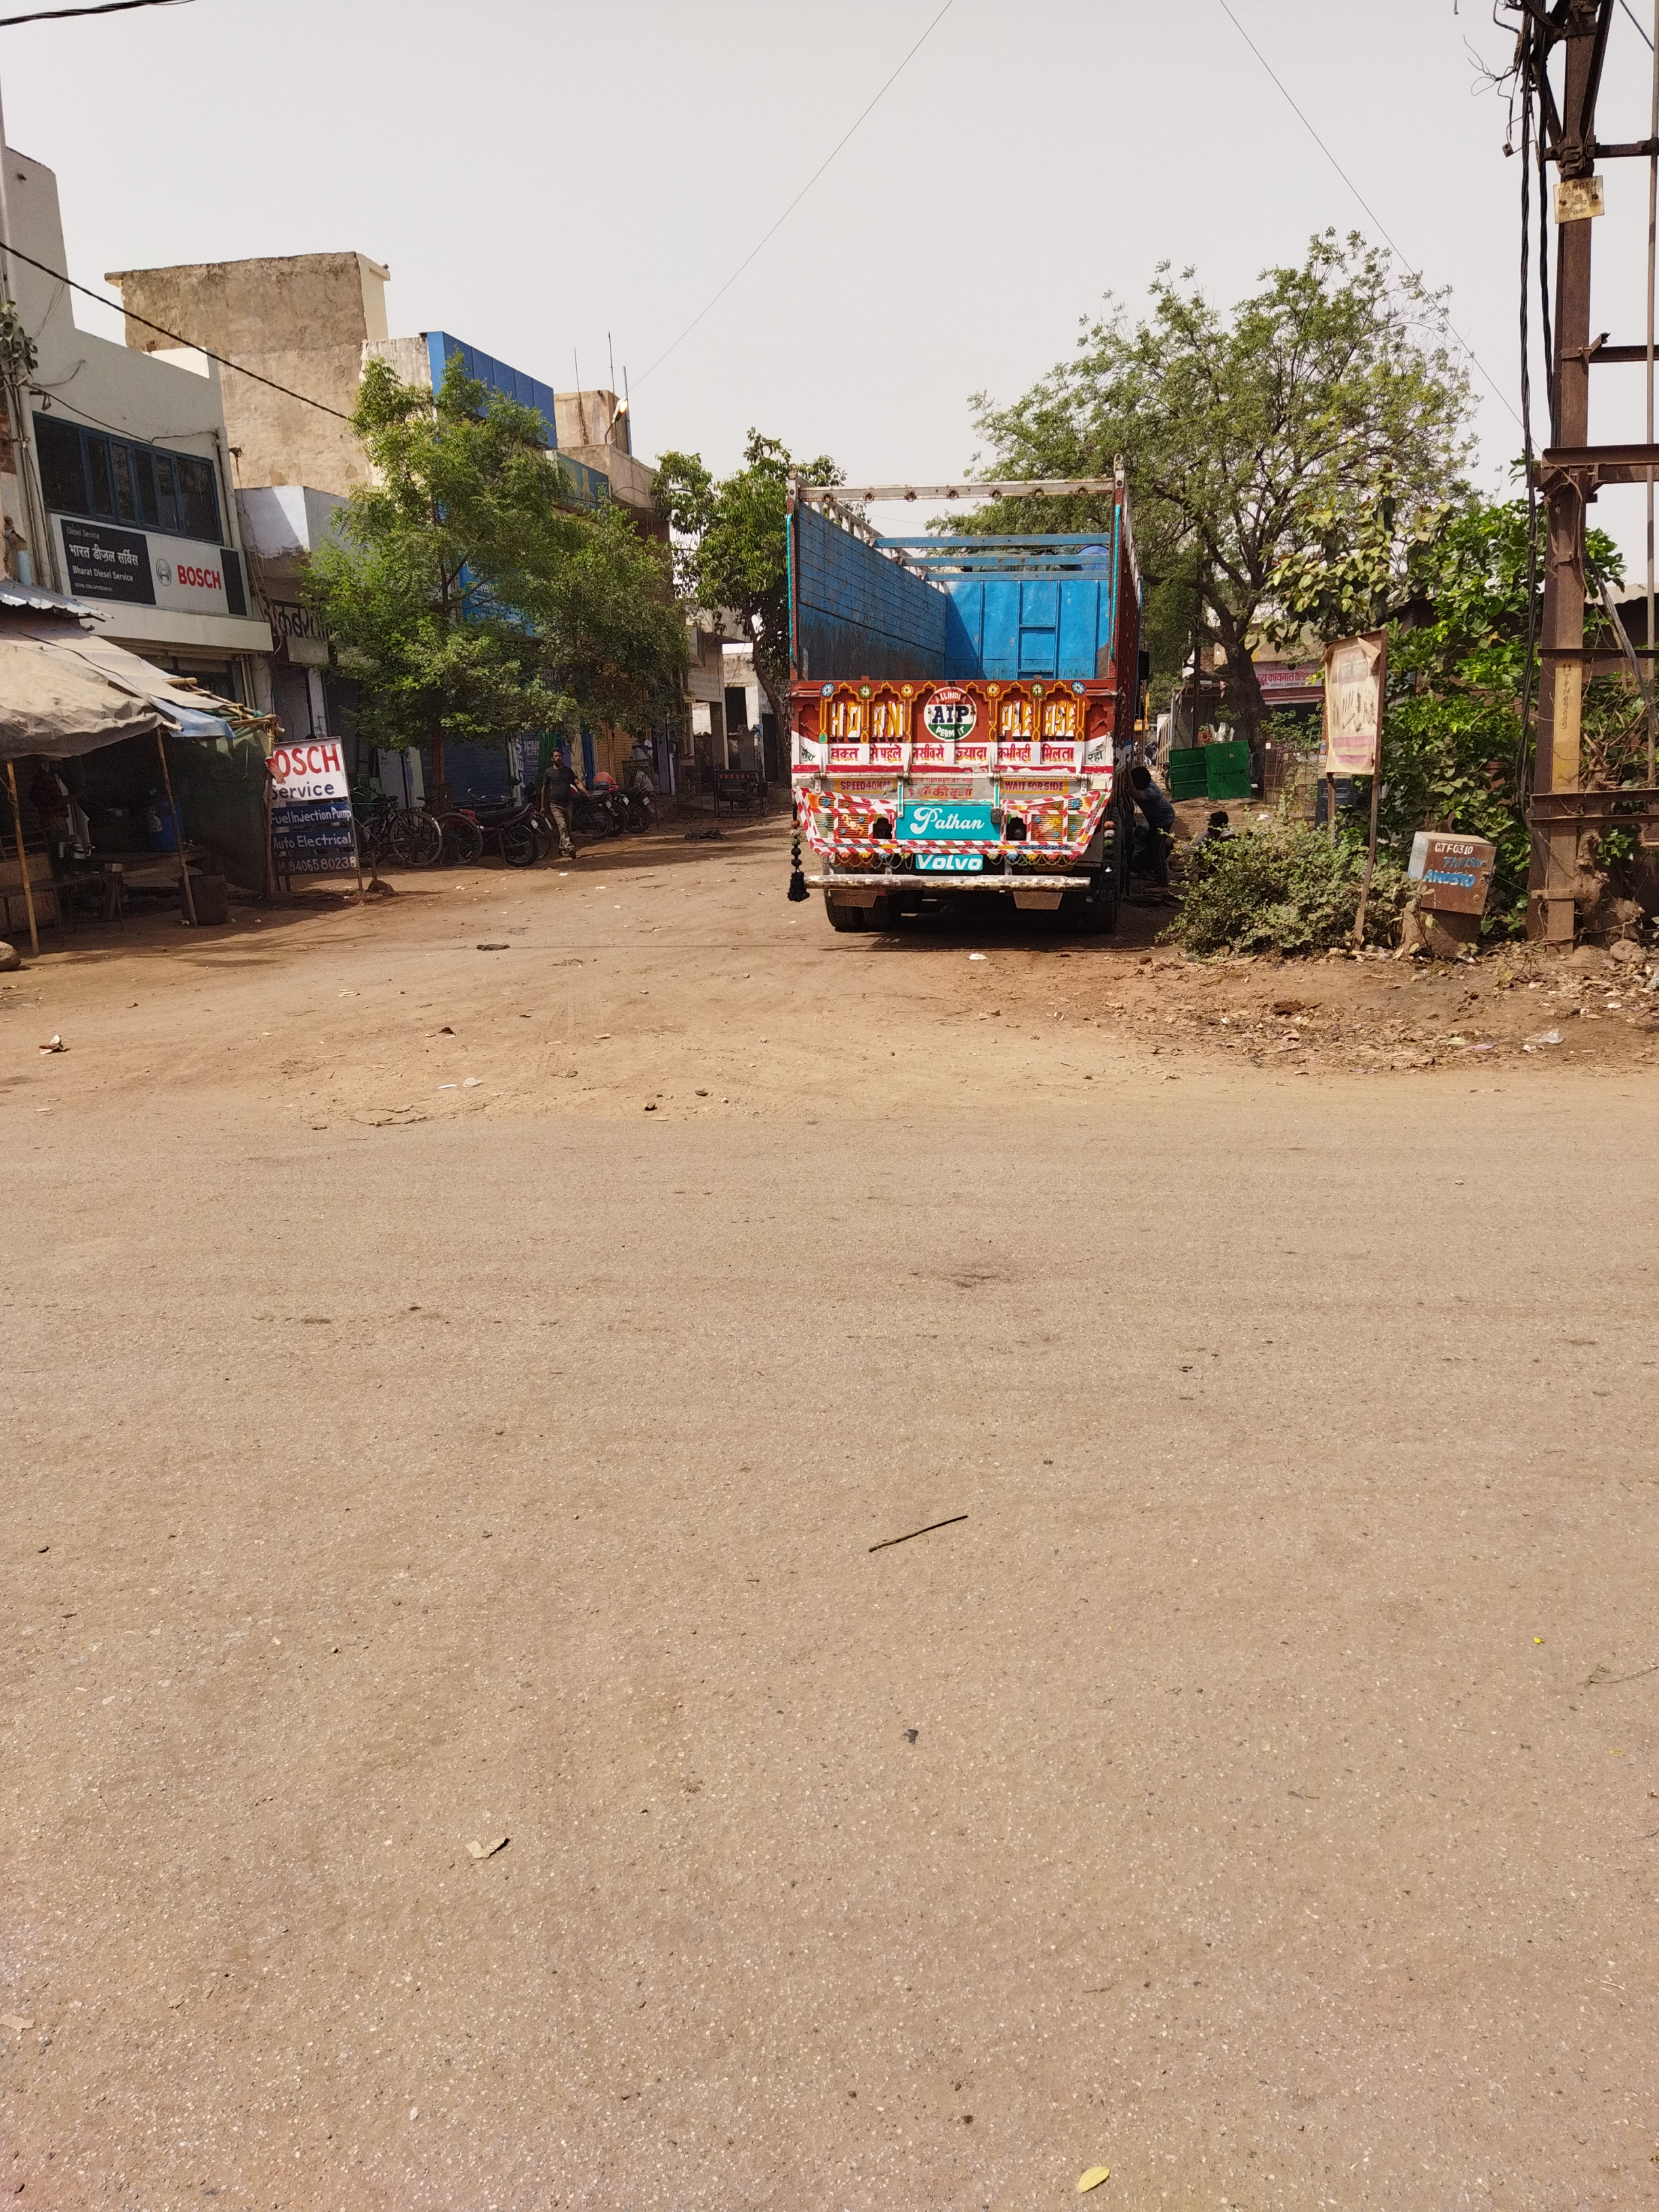truck: (774, 451, 1150, 935)
